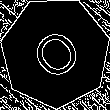O_SE: (23, 19, 88, 86)
